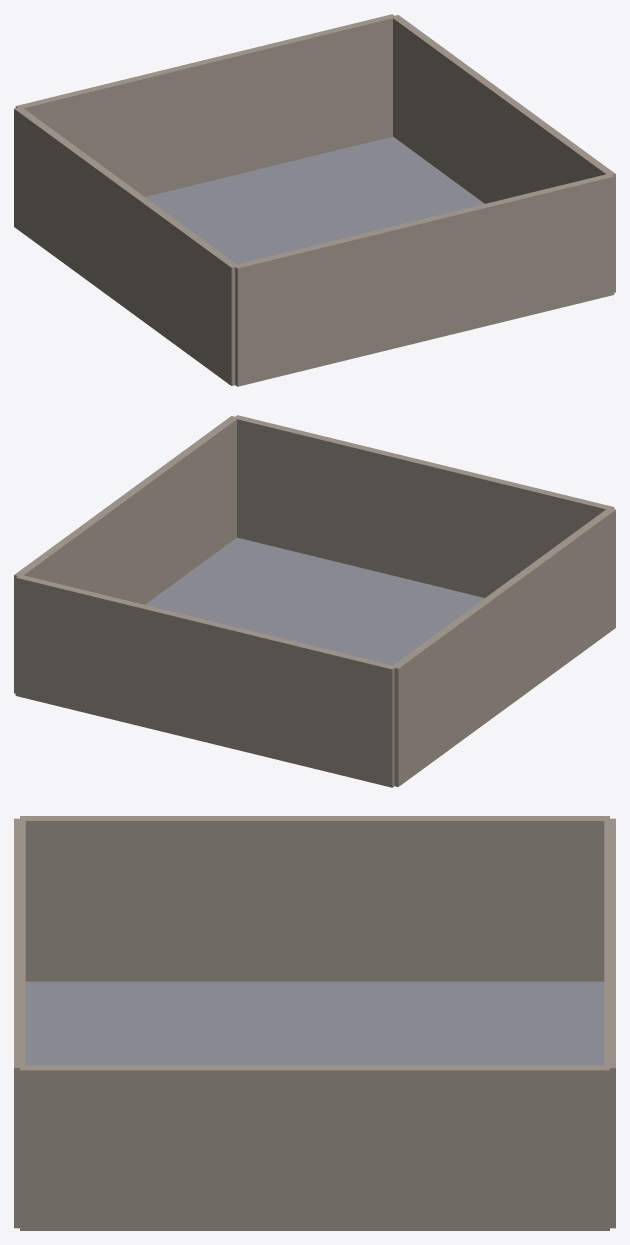
The model's file is dungeon.fbx.
3 renders of one model, top to bottom at view 1: azimuth 30°, elevation 25°; view 2: azimuth 150°, elevation 25°; view 3: azimuth 270°, elevation 25°, orthographic. The views are drawn at different scales.
Parts seen in each view (by area): view 1: Wall_3, Wall_2, Wall_1, Floor, Wall_0; view 2: Wall_2, Wall_3, Wall_1, Floor, Wall_0; view 3: Wall_0, Wall_1, Floor, Wall_3, Wall_2.
Part boxes in pixels (x1,y1,x2,y2): Wall_3: [234, 173, 614, 386]; Wall_2: [15, 14, 395, 196]; Wall_1: [14, 107, 237, 385]; Floor: [145, 136, 484, 264]; Wall_0: [392, 15, 615, 292]; Wall_2: [15, 574, 395, 787]; Wall_3: [233, 415, 614, 597]; Wall_1: [393, 508, 615, 786]; Floor: [145, 537, 484, 665]; Wall_0: [14, 416, 238, 693]; Wall_0: [20, 1065, 609, 1230]; Wall_1: [20, 816, 609, 981]; Floor: [25, 981, 604, 1065]; Wall_3: [14, 818, 25, 1228]; Wall_2: [604, 818, 615, 1228].
Size of the model in its own units: 1020 by 1020 by 300.
